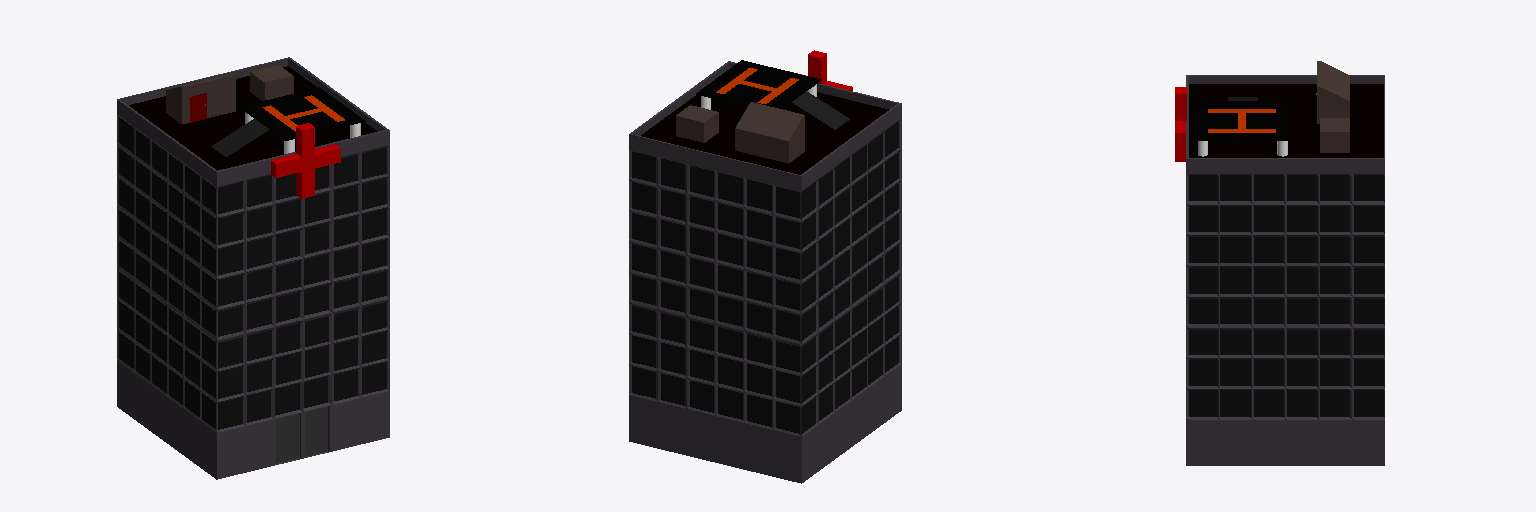
The model's file is hospital.obj.
The picture shows the model from 3 angles: view 1: azimuth 30°, elevation 25°; view 2: azimuth 150°, elevation 25°; view 3: azimuth 270°, elevation 25°; orthographic projection.
Parts seen in each view (by area): view 1: Object_8, Object_9, Object_4, Object_10, Object_18, Object_7, Object_16, Object_14, Object_20, Object_30; view 2: Object_8, Object_9, Object_4, Object_10, Object_18, Object_20, Object_30; view 3: Object_8, Object_9, Object_4, Object_18, Object_10, Object_30, Object_16.
Boxes of the visible parts, box(x1,y1,x2,y2) form: Object_8: box(119, 117, 386, 429); Object_9: box(117, 57, 389, 479); Object_4: box(129, 66, 377, 170); Object_10: box(166, 65, 293, 123); Object_18: box(239, 87, 365, 140); Object_7: box(276, 406, 327, 463); Object_16: box(296, 123, 314, 198); Object_14: box(271, 144, 340, 177); Object_20: box(211, 118, 269, 156); Object_30: box(262, 95, 344, 131); Object_8: box(632, 122, 898, 433); Object_9: box(629, 61, 901, 483); Object_4: box(641, 92, 888, 174); Object_10: box(676, 102, 804, 163); Object_18: box(696, 60, 821, 108); Object_20: box(792, 91, 849, 129); Object_30: box(716, 68, 798, 103); Object_8: box(1189, 175, 1383, 416); Object_9: box(1186, 75, 1384, 465); Object_4: box(1189, 84, 1383, 157); Object_18: box(1196, 101, 1288, 140); Object_10: box(1317, 61, 1349, 152); Object_30: box(1208, 109, 1275, 132); Object_16: box(1175, 87, 1186, 161).
Size of the model in its own units: 2 by 3.72 by 2.11.